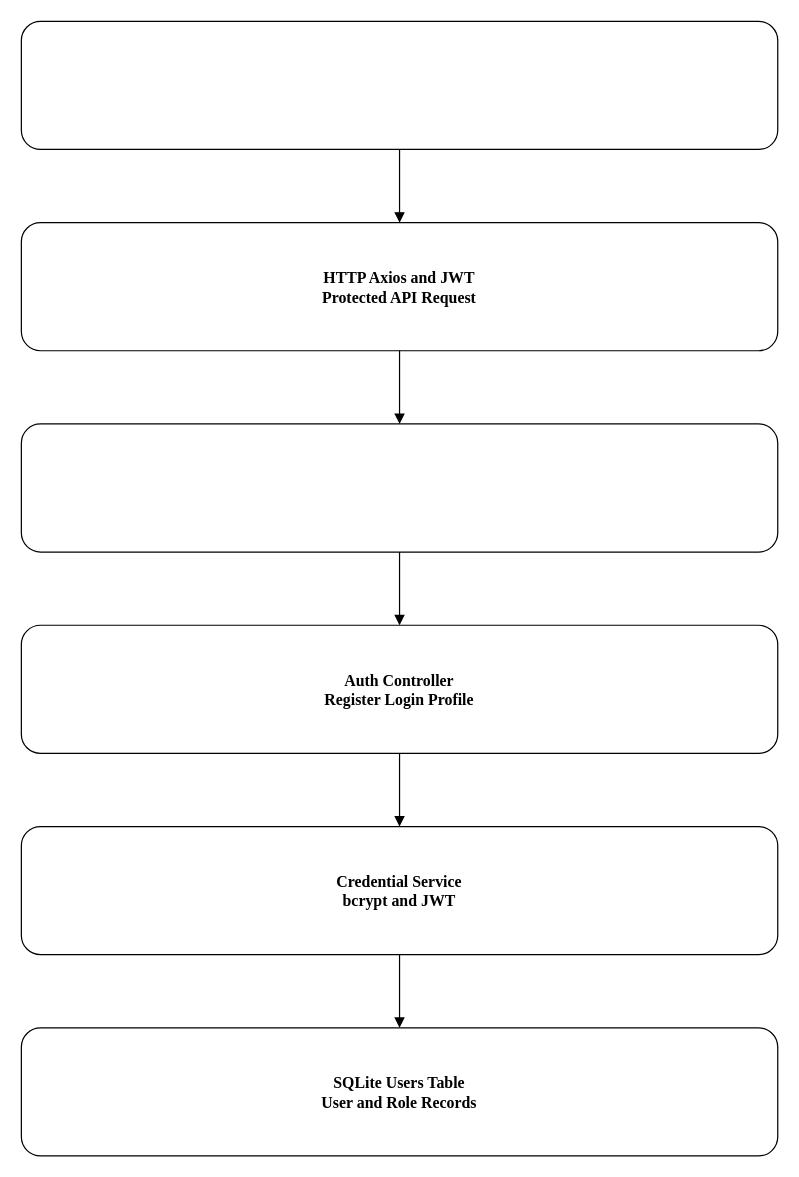
Some shapes in this 799 by 1177 pixel diagram are drawn without their labels. The centre of each missing label's shape, as x and y in pixels:
Client React Login and Profile Pages: point (399, 84)
Express Middleware Rate Limit and Auth Check: point (399, 487)
